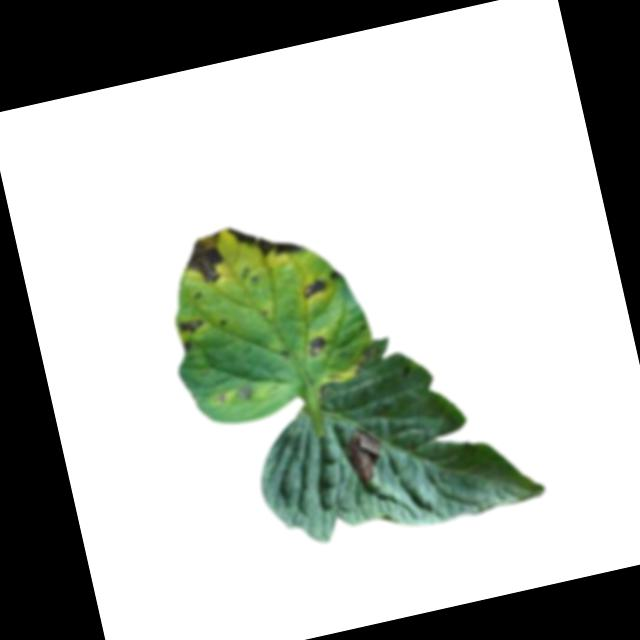Early_blight: (224, 213, 305, 268), (339, 424, 389, 487), (177, 232, 228, 290), (299, 276, 328, 302), (304, 334, 329, 358), (177, 317, 204, 337), (180, 341, 192, 356), (329, 268, 342, 281)
